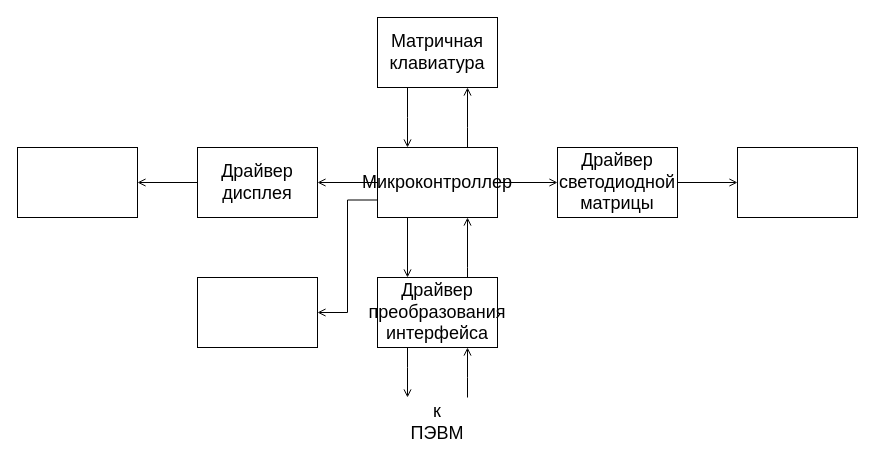
Image size: 875x461. Some labels were removed from this diagram. Here are the shapes that lost their labels. From the top down, the centre of each, then its label:
point 77,182: Дисплей
point 797,182: Светодиодная матрица
point 257,312: Зуммер
